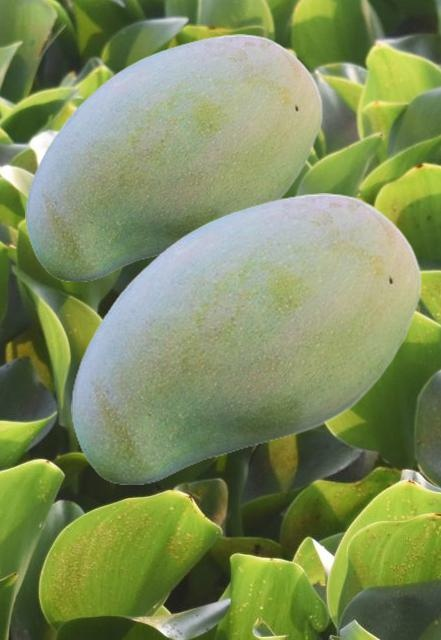green_mango: (71, 193, 421, 483), (25, 34, 322, 280)
